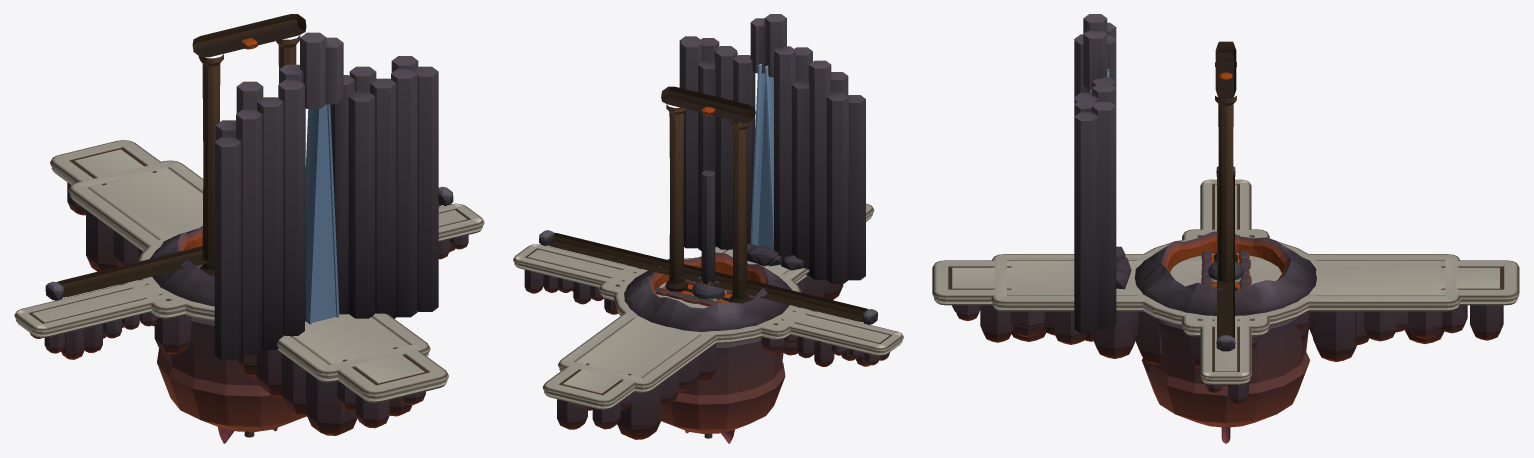
The model's file is volcano-3-Cv3zsAtt.glb.
3 renders of one model, left to right at view 1: azimuth 30°, elevation 25°; view 2: azimuth 150°, elevation 25°; view 3: azimuth 270°, elevation 25°, orthographic. The views are drawn at different scales.
Visible parts, largest first — view 1: crack_#0, block_8x2x32#0, block_6x2x40#0, disc_14x1.5#0, block_32x2x3.5_grate#0, pressFrame_3.5x6x2x7#0, block_8x2x32_grate#0, mount_13.8#0, geyserVent_8#0, block_16x2x6#0, block_6x2x32_grate#0; view 2: crack_#0, block_32x2x3.5_grate#0, block_8x2x32#0, disc_14x1.5#0, pressFrame_3.5x6x2x7#0, geyserVent_8#0, mount_13.8#0, block_6x2x40#0, block_8x2x32_grate#0, press_6x6x2#0, block_16x2x6#0, block_6x2x32_grate#0 (+2 smaller); view 3: block_8x2x32#0, crack_#0, disc_14x1.5#0, block_6x2x40#0, geyserVent_8#0, block_32x2x3.5_grate#0, block_8x2x32_grate#0, pressFrame_3.5x6x2x7#0, block_6x2x32_grate#0, mount_13.8#0, block_16x2x6#0.
Part boxes in pixels (x1,y1,x2,y2): crack_#0: (214,32,438,360); block_8x2x32#0: (68,160,430,435); block_6x2x40#0: (50,140,448,428); disc_14x1.5#0: (138,239,306,431); block_32x2x3.5_grate#0: (14,203,484,359); pressFrame_3.5x6x2x7#0: (192,14,306,276); block_8x2x32_grate#0: (68,160,430,416); mount_13.8#0: (45,186,453,300); geyserVent_8#0: (150,226,214,306); block_16x2x6#0: (119,278,191,354); block_6x2x32_grate#0: (87,167,410,412); crack_#0: (679,14,865,283); block_32x2x3.5_grate#0: (513,244,903,366); block_8x2x32#0: (558,246,843,439); disc_14x1.5#0: (614,257,801,433); pressFrame_3.5x6x2x7#0: (661,86,755,303); geyserVent_8#0: (624,252,791,331); mount_13.8#0: (539,230,877,324); block_6x2x40#0: (542,203,874,429); block_8x2x32_grate#0: (558,246,823,427); press_6x6x2#0: (701,170,715,284); block_16x2x6#0: (599,265,816,355); block_6x2x32_grate#0: (574,249,789,378); block_8x2x32#0: (991,254,1460,361); crack_#0: (1074,14,1131,333); disc_14x1.5#0: (1135,237,1316,427); block_6x2x40#0: (932,260,1519,345); geyserVent_8#0: (1134,231,1316,315); block_32x2x3.5_grate#0: (1200,179,1251,404); block_8x2x32_grate#0: (991,254,1460,364); pressFrame_3.5x6x2x7#0: (1214,41,1237,290); block_6x2x32_grate#0: (1006,260,1445,342); mount_13.8#0: (1216,166,1235,351); block_16x2x6#0: (1182,229,1269,366).
Bounding box in the file's own units: 32 × 30.86 × 40.
